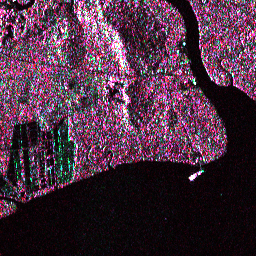ship: (186, 167, 206, 183)
